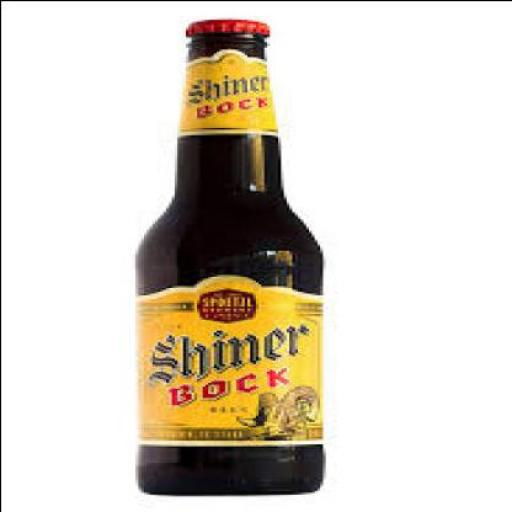glass: (131, 30, 322, 493)
metal: (182, 15, 266, 32)
